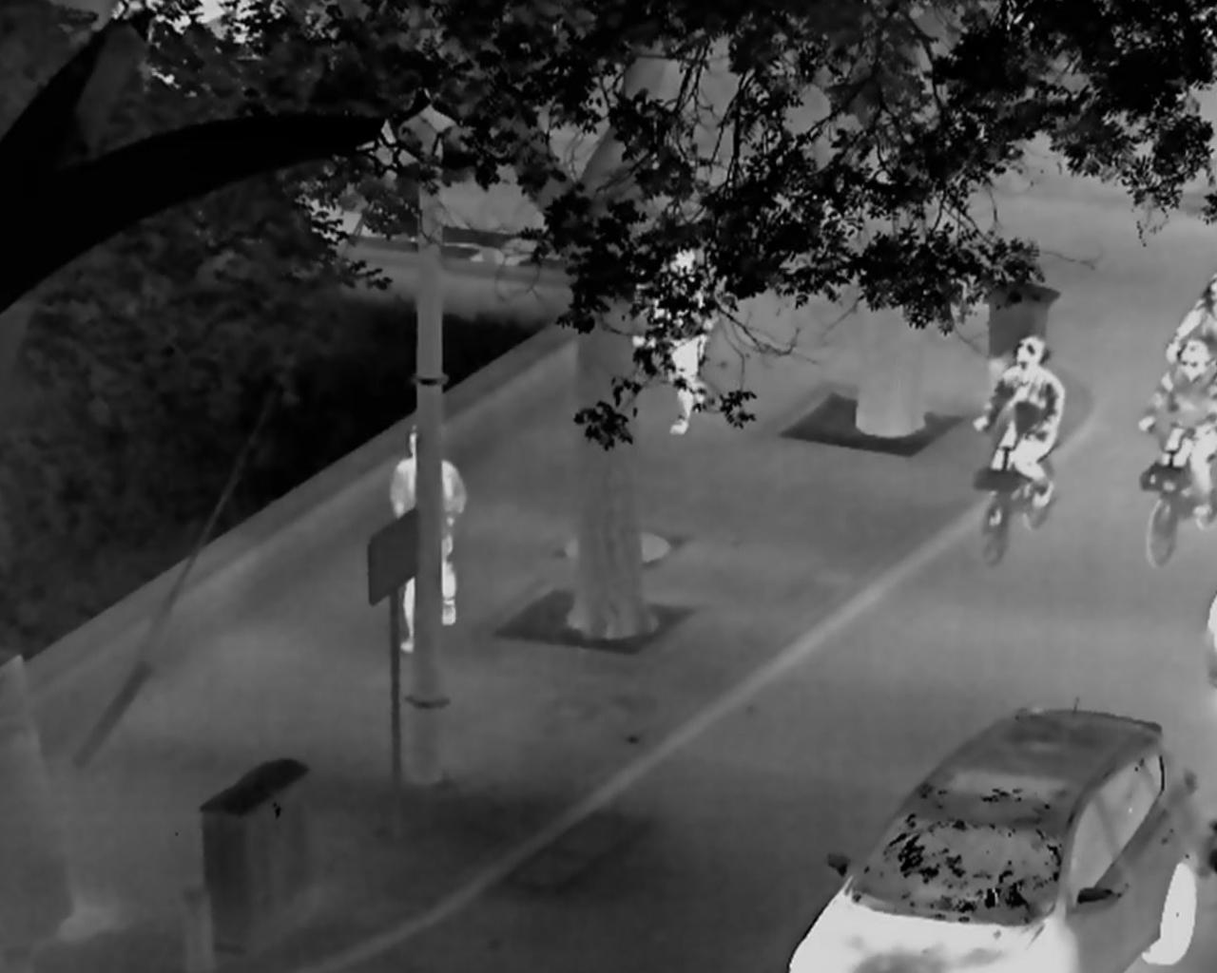person: (969, 336, 1065, 527), (388, 422, 466, 651), (641, 231, 722, 437), (1136, 338, 1217, 515), (1168, 273, 1217, 362)
